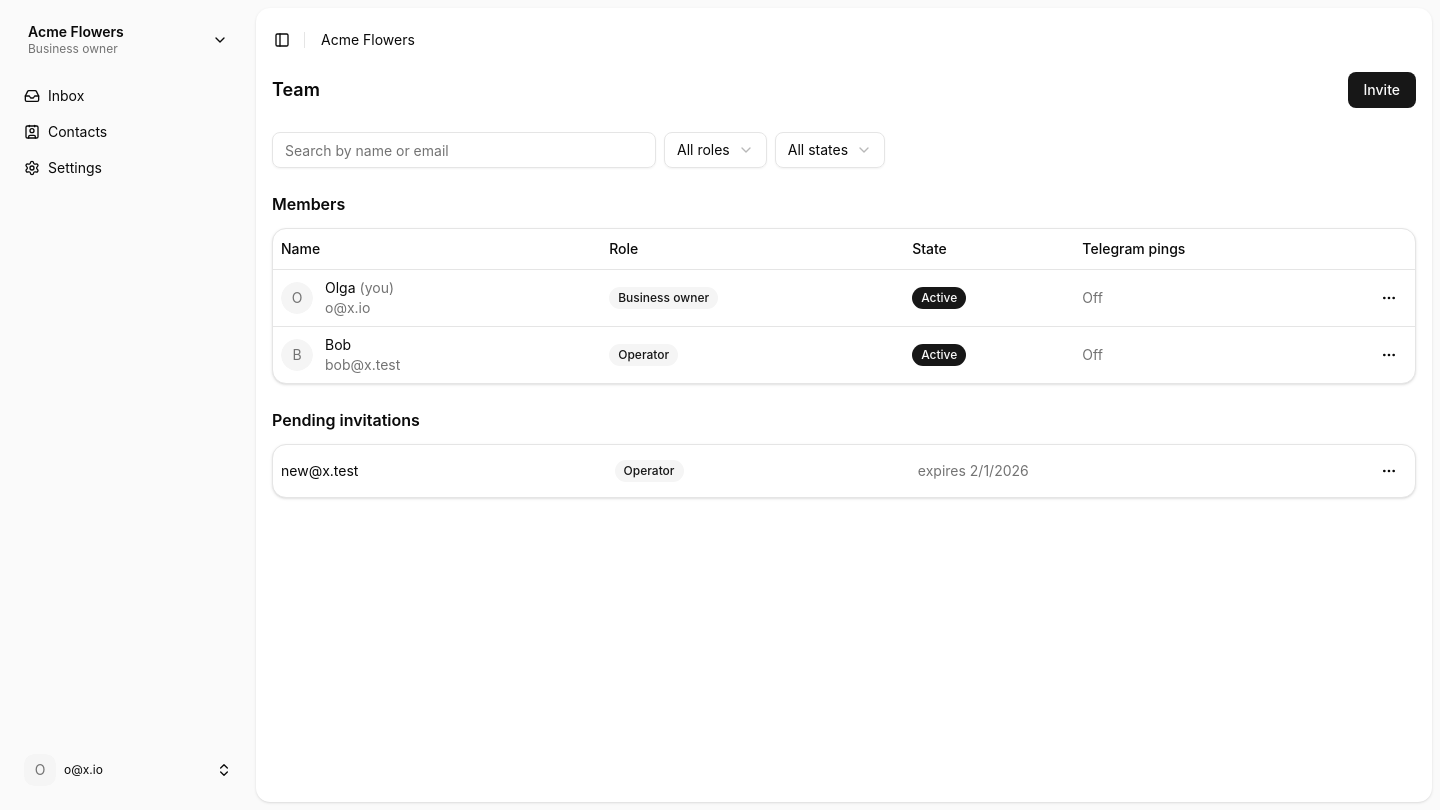
Scenario: TeamPage (SCR-07) › deactivate: confirm text, then Deactivated badge and Reactivate action
Expected: the text "Bob" is shown, left=325, top=336, right=351, bottom=352
Press Enter in the button named "Actions for bob@x.test", box left=1371, top=336, right=1407, bottom=372
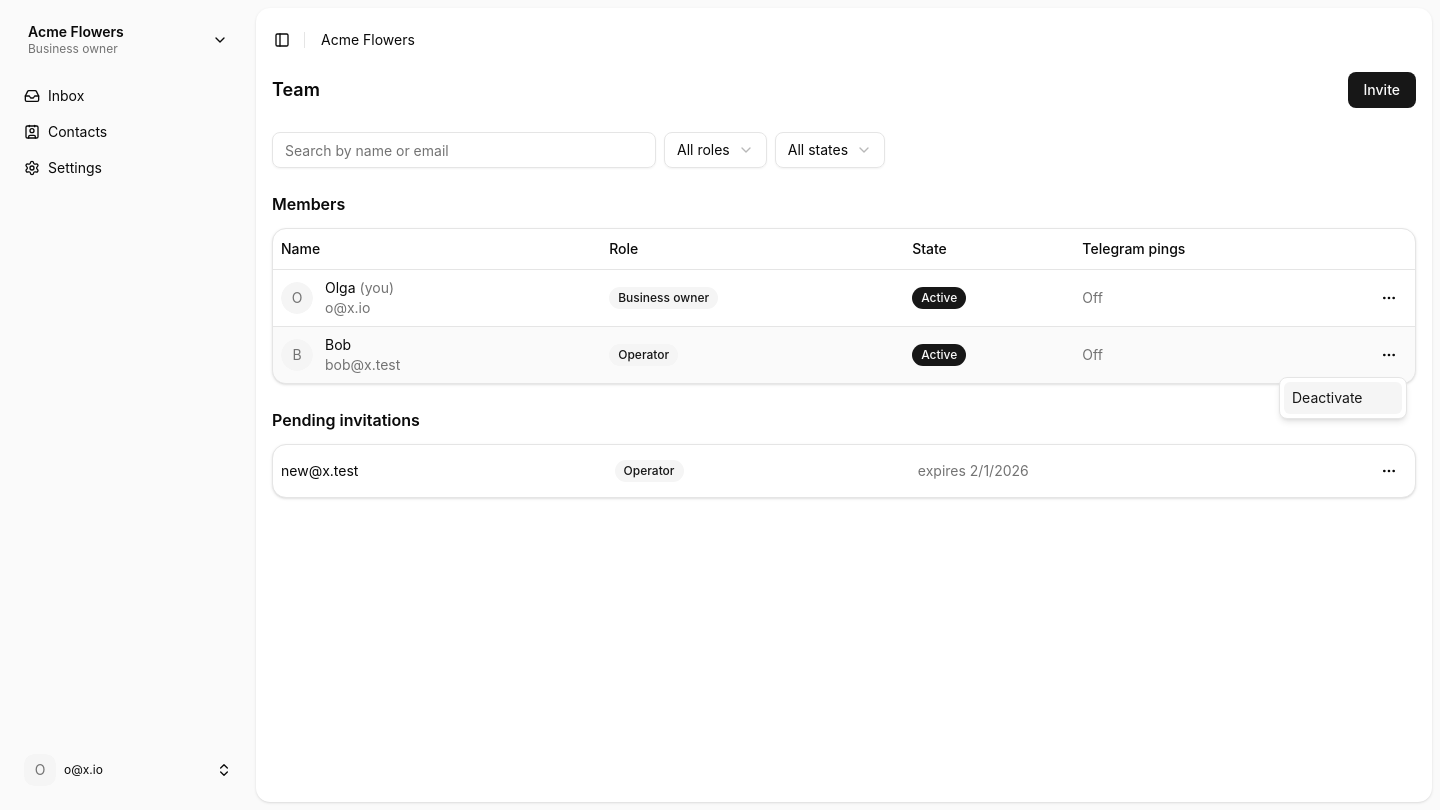
Click the menu item "Deactivate" at (1343, 398), box left=1284, top=382, right=1402, bottom=414
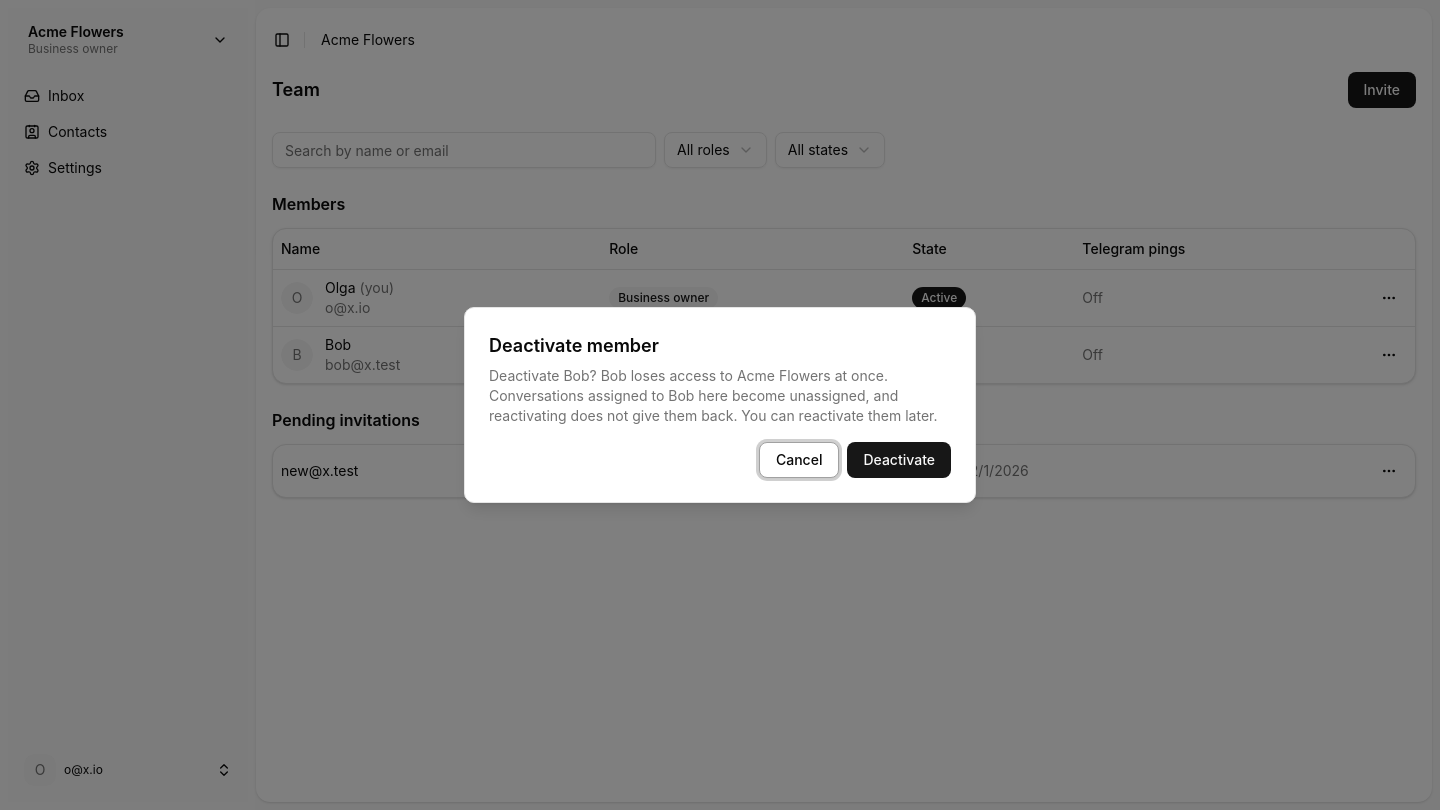
Now the text "Deactivate Bob? Bob loses access to Acme Flowers at once. Conversations assigned to Bob here become unassigned, and reac" is shown, box left=489, top=367, right=938, bottom=424
Click the button "Deactivate" at (899, 460), box left=848, top=442, right=951, bottom=478
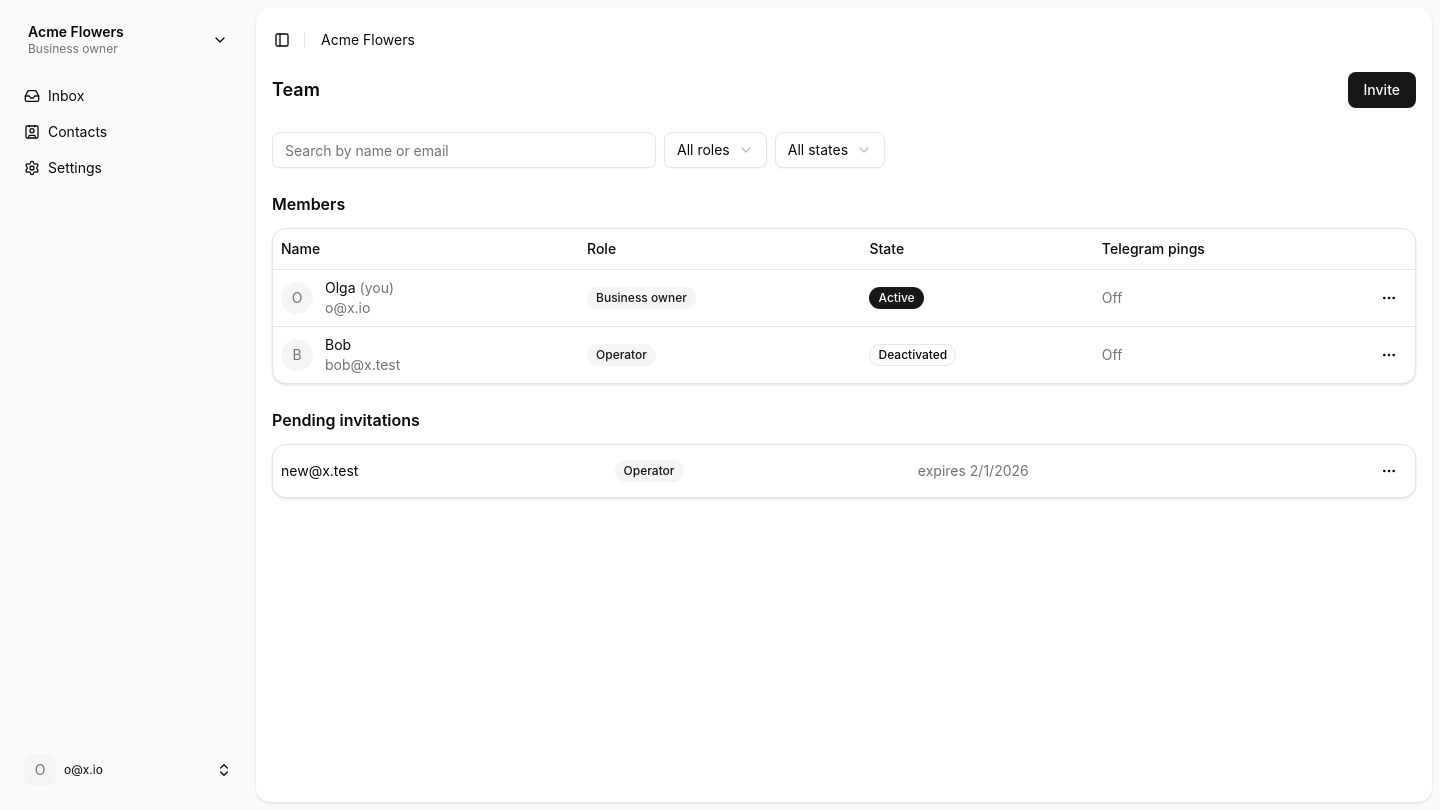
Now the text "Deactivated" is shown, box left=870, top=344, right=956, bottom=366
Press Enter in the button named "Actions for bob@x.test", box left=1371, top=336, right=1407, bottom=372
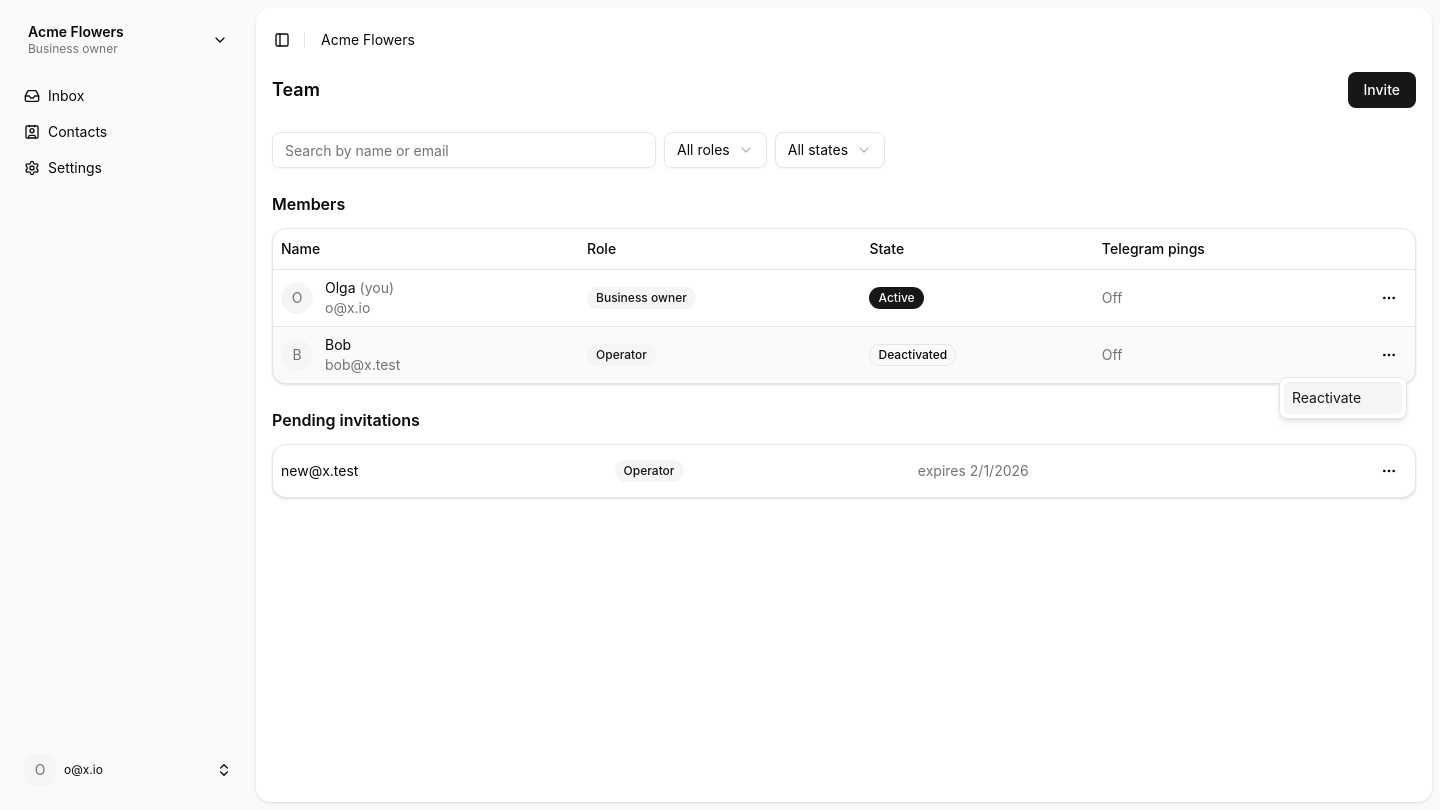
Now the text "Deactivated" is shown, box left=870, top=344, right=956, bottom=366
Now the menu item "Reactivate" is shown, box left=1284, top=382, right=1402, bottom=414
